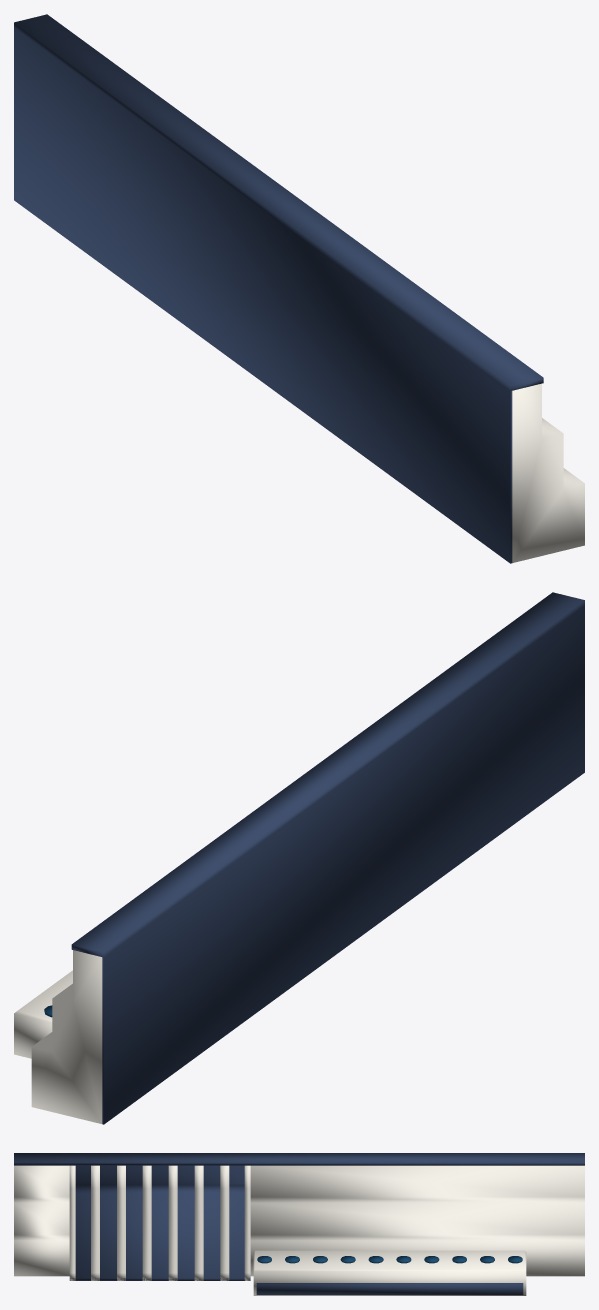
Rendered from hidreletrica-grande.glb.
3 renders of one model, top to bottom at view 1: azimuth 30°, elevation 25°; view 2: azimuth 150°, elevation 25°; view 3: azimuth 270°, elevation 25°, orthographic. The views are drawn at different scales.
Parts seen in each view (by area): view 1: hidreletrica-grande; view 2: hidreletrica-grande; view 3: hidreletrica-grande.
Boxes of the visible parts, x1,y1,x2,y2 form: hidreletrica-grande: [14, 14, 584, 563]; hidreletrica-grande: [14, 592, 584, 1124]; hidreletrica-grande: [14, 1153, 584, 1295].
Size of the model in its own units: 97.2 by 114 by 574.
